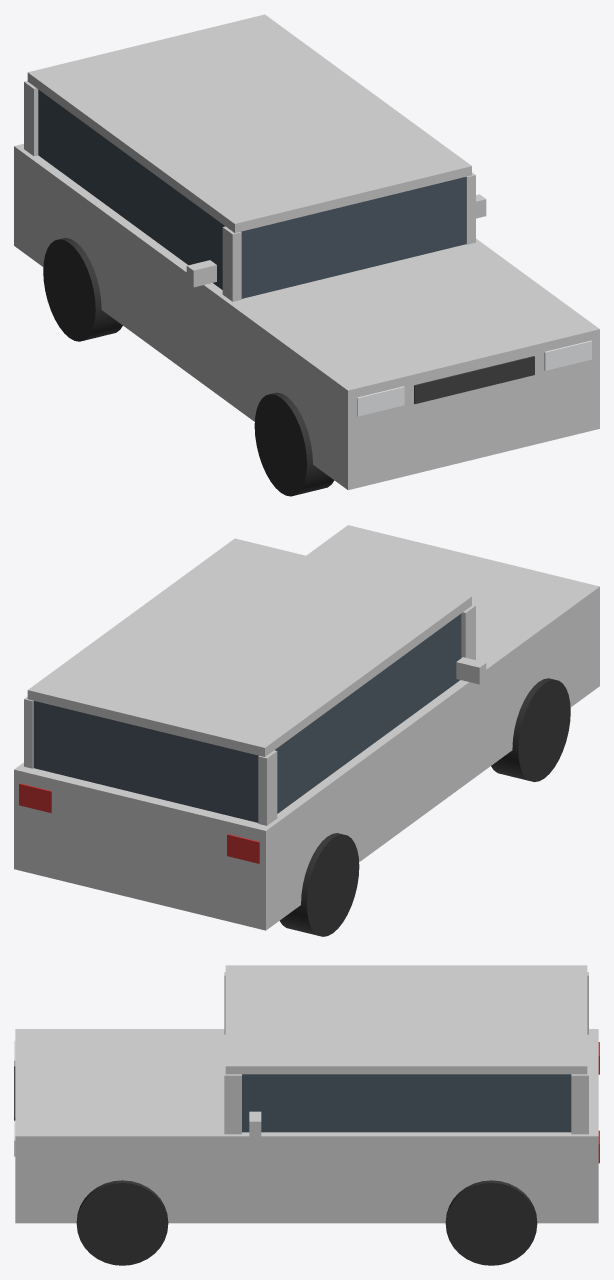
File: placeholder-hatch.glb
3 views of the same model, one above another, from view 1: azimuth 30°, elevation 25°; view 2: azimuth 150°, elevation 25°; view 3: azimuth 270°, elevation 25° (orthographic). The views are drawn at different scales.
Parts seen in each view (by area): view 1: lataria, teto, vidros, roda_tras_d, roda_diant_d, grade, coluna_a_d, coluna_c_d, farol_d, farol_e, retrovisor_d, coluna_a_e; view 2: lataria, teto, vidros, roda_diant_d, roda_tras_d, coluna_c_d, coluna_a_d, lanterna_d, lanterna_e, retrovisor_d, coluna_c_e; view 3: lataria, teto, vidros, roda_diant_e, roda_tras_e, coluna_a_e, coluna_c_e.
Part boxes in pixels (<box>): lataria: <box>14,143,599,490</box>; teto: <box>27,14,471,232</box>; vidros: <box>38,89,466,298</box>; roda_tras_d: <box>43,238,122,341</box>; roda_diant_d: <box>254,392,334,496</box>; grade: <box>414,356,534,403</box>; coluna_a_d: <box>222,226,241,301</box>; coluna_c_d: <box>24,81,38,156</box>; farol_d: <box>357,386,404,416</box>; farol_e: <box>544,340,591,370</box>; retrovisor_d: <box>186,260,216,287</box>; coluna_a_e: <box>466,172,475,244</box>; lataria: <box>14,525,599,930</box>; teto: <box>27,538,471,756</box>; vidros: <box>33,614,461,822</box>; roda_diant_d: <box>491,678,570,781</box>; roda_tras_d: <box>280,833,359,936</box>; coluna_c_d: <box>258,750,277,825</box>; coluna_a_d: <box>461,604,475,659</box>; lanterna_d: <box>227,834,259,863</box>; lanterna_e: <box>19,783,51,812</box>; retrovisor_d: <box>456,657,486,684</box>; coluna_c_e: <box>24,696,33,768</box>; lataria: <box>15,1029,598,1223</box>; teto: <box>225,965,587,1074</box>; vidros: <box>242,1074,571,1132</box>; roda_diant_e: <box>76,1180,168,1265</box>; roda_tras_e: <box>445,1180,537,1265</box>; coluna_a_e: <box>224,1071,241,1134</box>; coluna_c_e: <box>571,1071,588,1134</box>.
Bounding box in the file's own units: 2 × 1.45 × 3.97.
